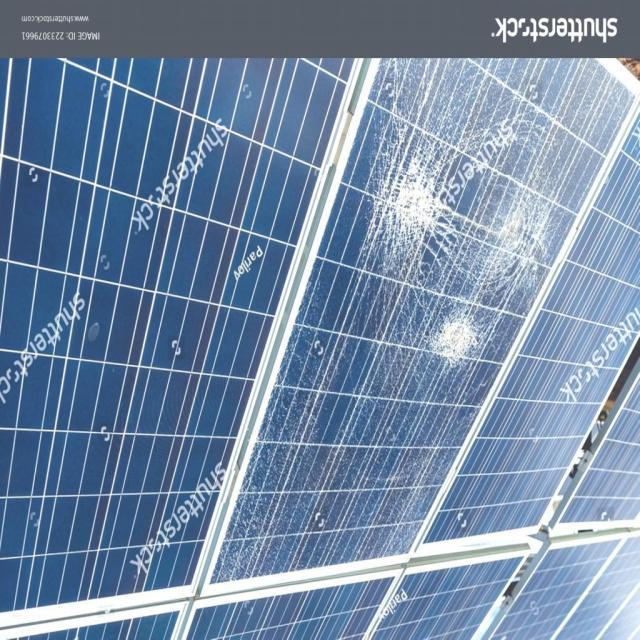cracked: (230, 66, 630, 544)
